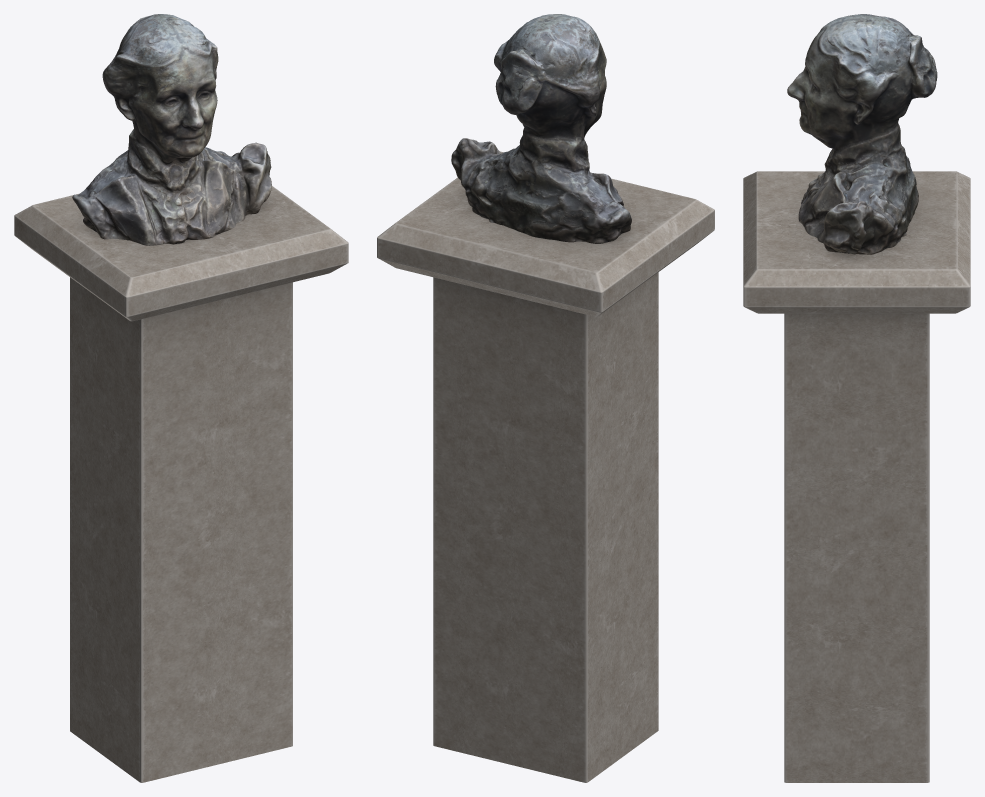
The model's file is MyMother.glb.
3 renders of one model, left to right at view 1: azimuth 30°, elevation 25°; view 2: azimuth 150°, elevation 25°; view 3: azimuth 270°, elevation 25°, orthographic.
Parts seen in each view (by area): view 1: SM_MyMother; view 2: SM_MyMother; view 3: SM_MyMother.
Part boxes in pixels (left/top/right/bottom): SM_MyMother: left=14, top=14, right=348, bottom=782; SM_MyMother: left=377, top=14, right=714, bottom=782; SM_MyMother: left=743, top=14, right=970, bottom=782.
Bounding box in the file's own units: 0.48 × 1.47 × 0.42.
1 material, 1 textured.
